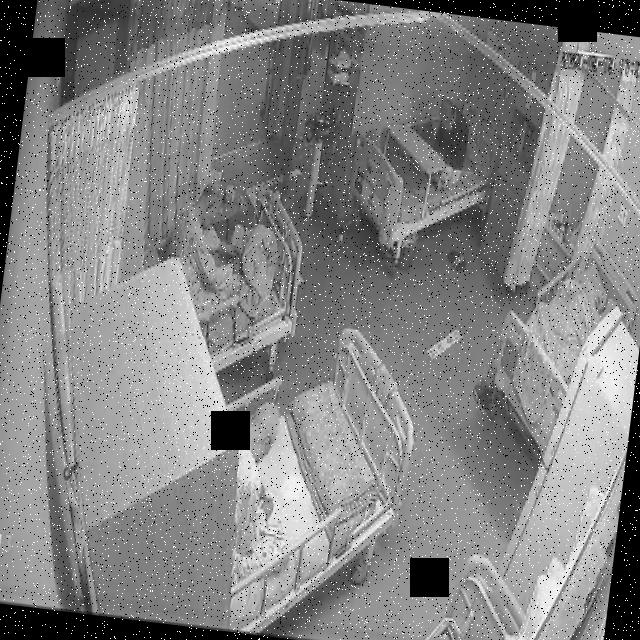bed: (194, 316, 426, 640), (479, 232, 640, 462), (155, 182, 308, 380), (345, 86, 505, 260)
patient: (213, 392, 305, 590), (160, 174, 252, 329), (421, 96, 472, 194)
sit: (161, 171, 297, 327), (212, 390, 306, 590), (422, 98, 472, 192)
